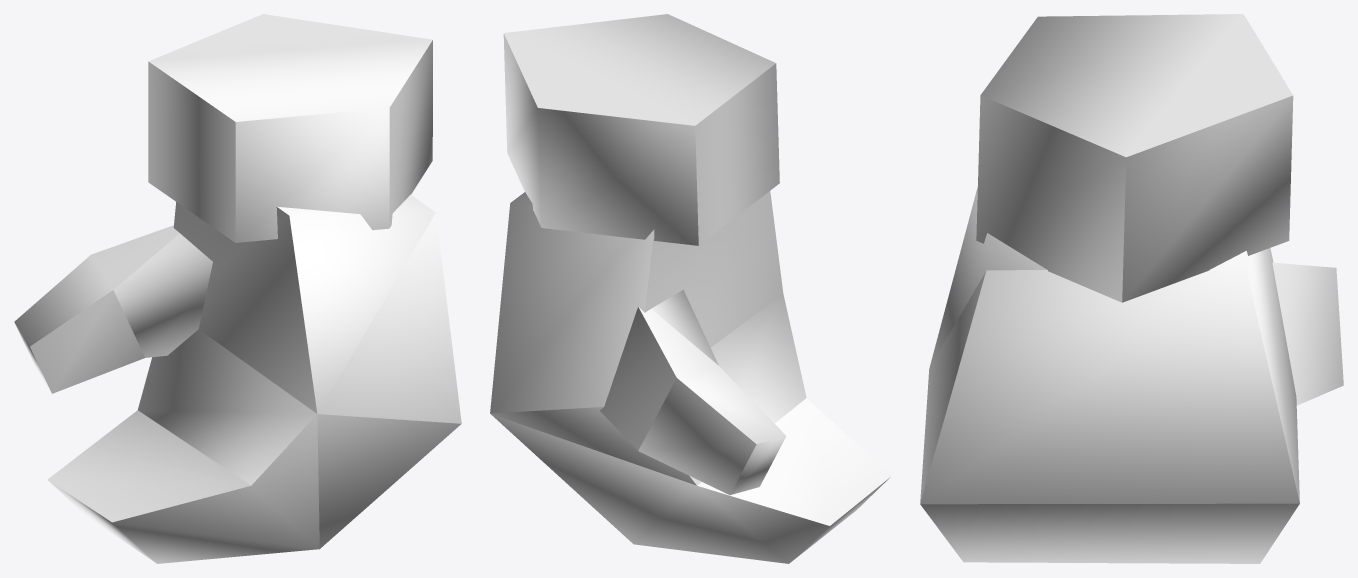
File: HandR.obj
3 views of the same model, side by side, from view 1: azimuth 30°, elevation 25°; view 2: azimuth 150°, elevation 25°; view 3: azimuth 270°, elevation 25° (orthographic). The views are drawn at different scales.
Bounding box in the file's own units: 1.26 × 1.44 × 1.06.
1 material, 1 textured.
